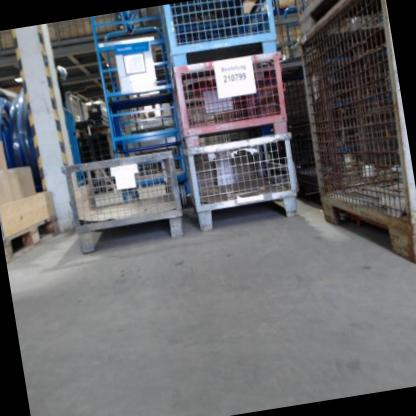pallet: (0, 214, 64, 266)
stillage: (290, 0, 416, 278), (176, 124, 303, 235), (63, 144, 188, 256), (164, 47, 297, 152), (157, 0, 286, 67), (290, 0, 369, 32)
